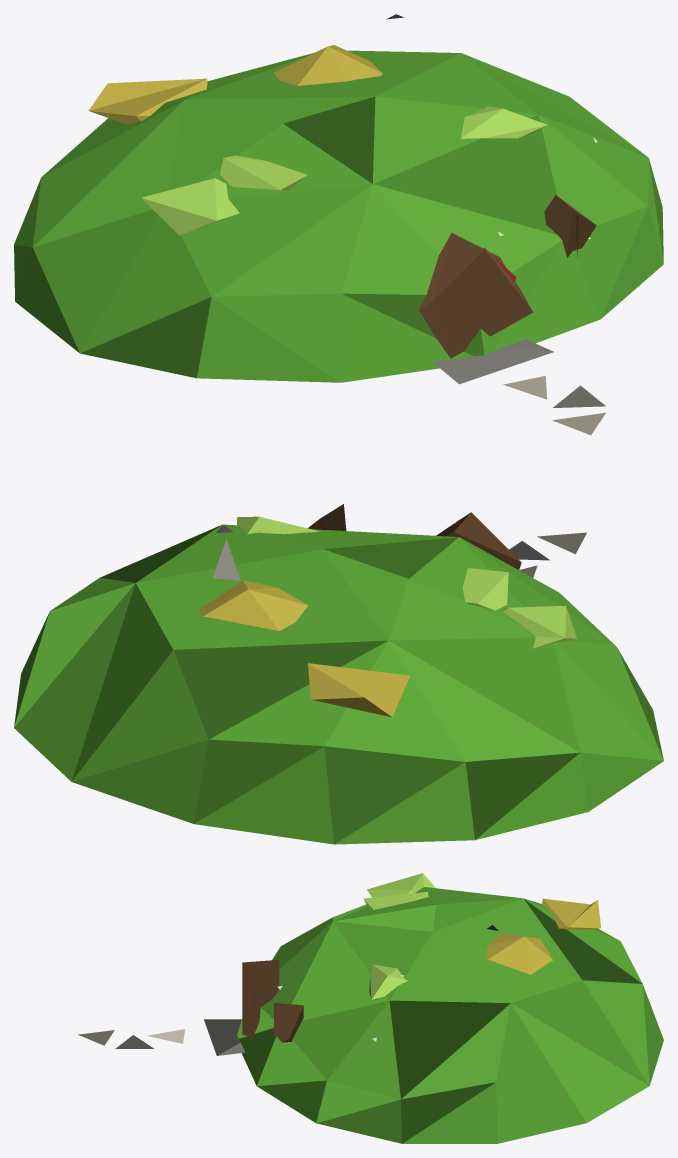
Rendered from hobbit_hole_2_lod2.glb.
3 views of the same model, one above another, from view 1: azimuth 30°, elevation 25°; view 2: azimuth 150°, elevation 25°; view 3: azimuth 270°, elevation 25° (orthographic). The views are drawn at different scales.
Visible parts, largest first — view 1: hobbit_hole_2_lod2; view 2: hobbit_hole_2_lod2; view 3: hobbit_hole_2_lod2.
Part boxes in pixels (x1,y1,x2,y2): hobbit_hole_2_lod2: [14, 14, 663, 435]; hobbit_hole_2_lod2: [14, 504, 663, 844]; hobbit_hole_2_lod2: [78, 873, 663, 1143].
Size of the model in its own units: 13.4 by 4.27 by 17.54.
